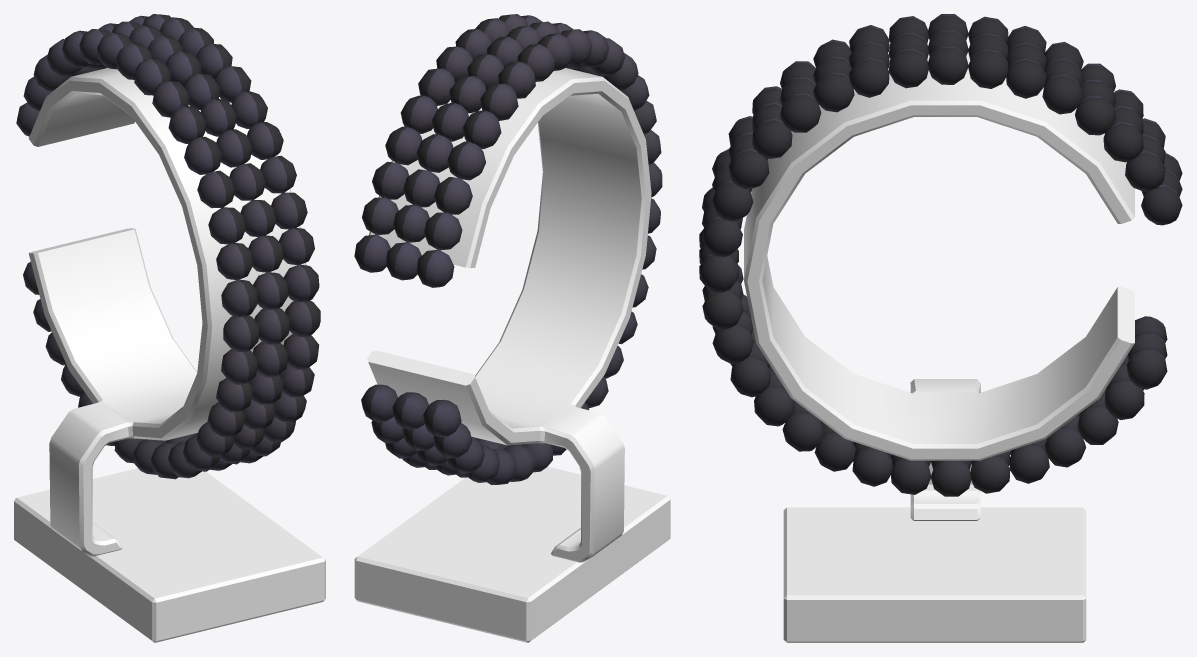
Rendered from 3_strands_pearl_bangle.glb.
3 renders of one model, left to right at view 1: azimuth 30°, elevation 25°; view 2: azimuth 150°, elevation 25°; view 3: azimuth 270°, elevation 25°, orthographic. The views are drawn at different scales.
Parts seen in each view (by area): view 1: Cylinder001, Sphere001; view 2: Cylinder001, Sphere001; view 3: Cylinder001, Sphere001.
Boxes of the visible parts, x1,y1,x2,y2 form: Cylinder001: (14, 68, 325, 642); Sphere001: (16, 14, 320, 479); Cylinder001: (354, 68, 670, 642); Sphere001: (354, 14, 662, 484); Cylinder001: (744, 52, 1134, 642); Sphere001: (699, 14, 1182, 496).
Bounding box in the file's own units: 66.97 × 180 × 139.
2 materials, 1 textured.
